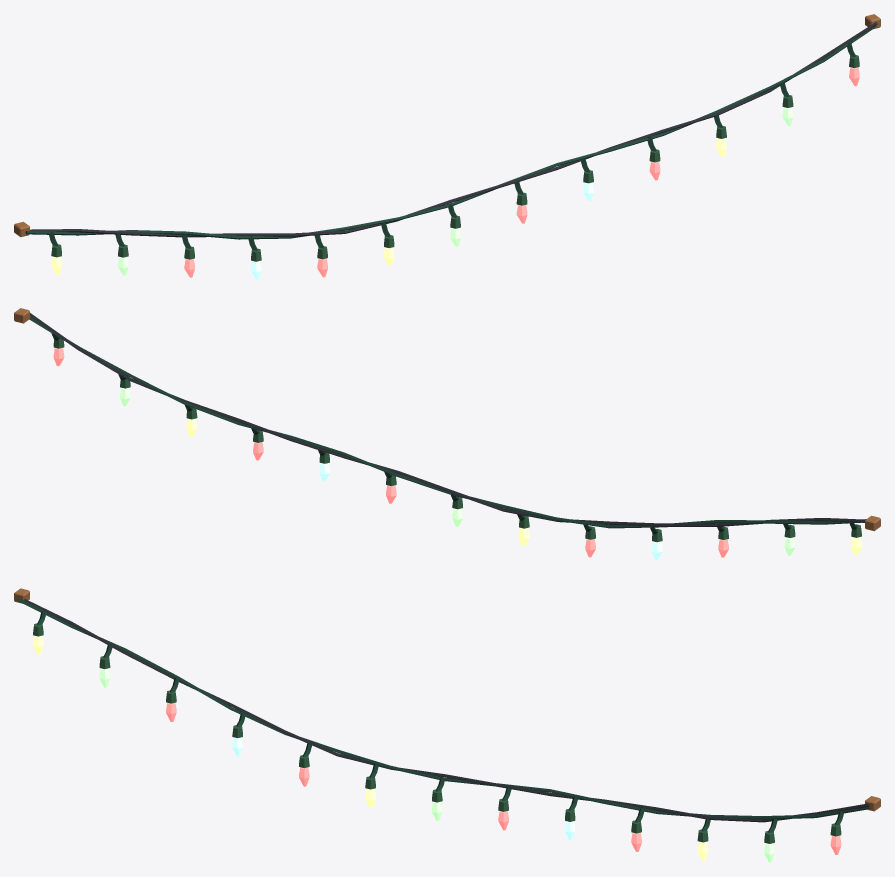
The model's file is lights_festoon.glb.
3 views of the same model, one above another, from view 1: azimuth 30°, elevation 25°; view 2: azimuth 150°, elevation 25°; view 3: azimuth 330°, elevation 25° (orthographic).
Parts seen in each view (by area): view 1: lights_festoon; view 2: lights_festoon; view 3: lights_festoon.
Part boxes in pixels (left/top/right/bottom): lights_festoon: left=14, top=14, right=880, bottom=279; lights_festoon: left=14, top=308, right=880, bottom=559; lights_festoon: left=14, top=588, right=880, bottom=862.
Size of the model in its own units: 1.62 by 0.2183 by 0.0497.
